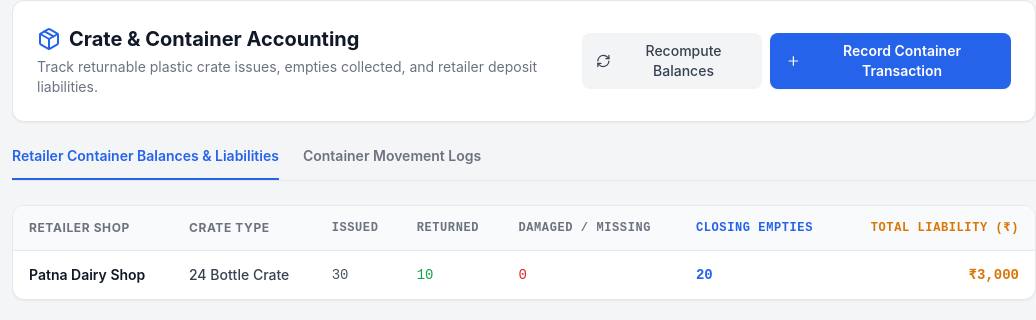
Test: CratesManagementView › switches to transactions log tab and renders movement history
This screenshot has width=1036, height=320.
What coordinates should you click on to do the following:
click the button "Container Movement Logs"
I would click on:
 (392, 163)
Its box is [303,146,481,180].
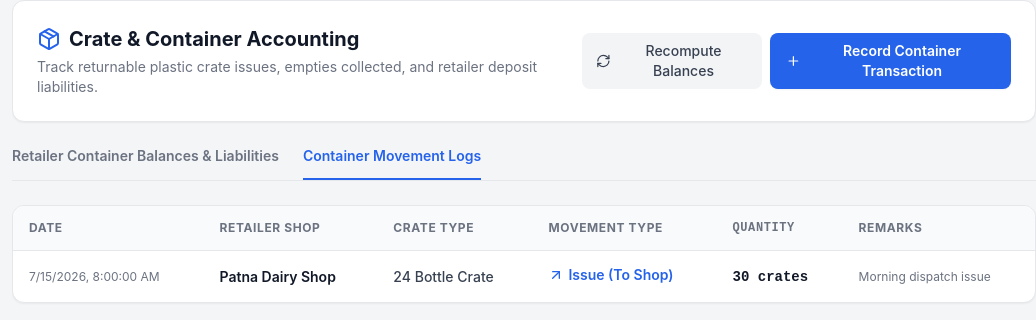
Now the text "Issue (To Shop)" is shown, box [548,265,674,285]
Now the text "Morning dispatch issue" is shown, box [843,250,1035,302]
